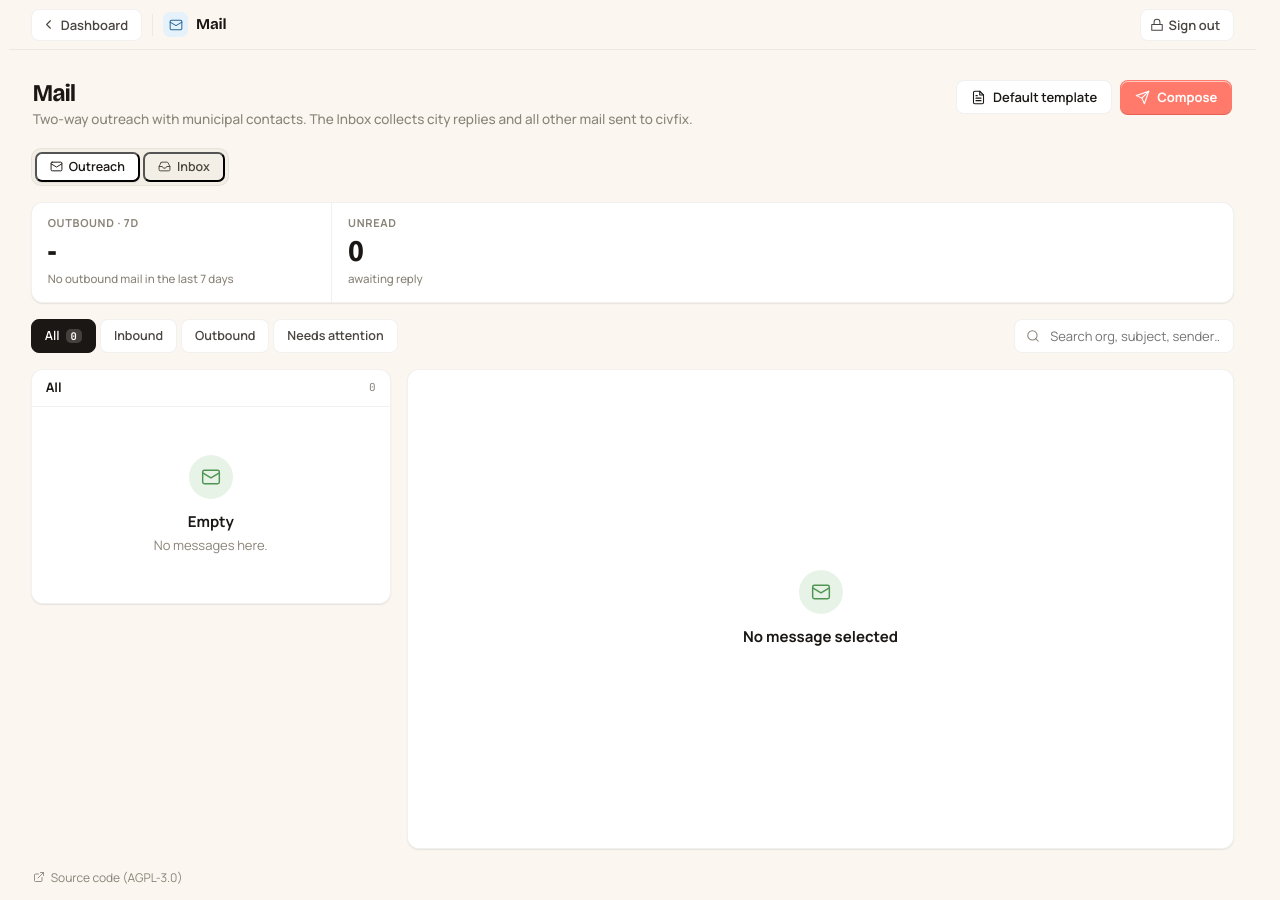
Test case: Forward template modal › is a labelled modal dialog with a named close button
Click the button "Default template": click(1034, 97) x1=956 y1=80 x2=1112 y2=114
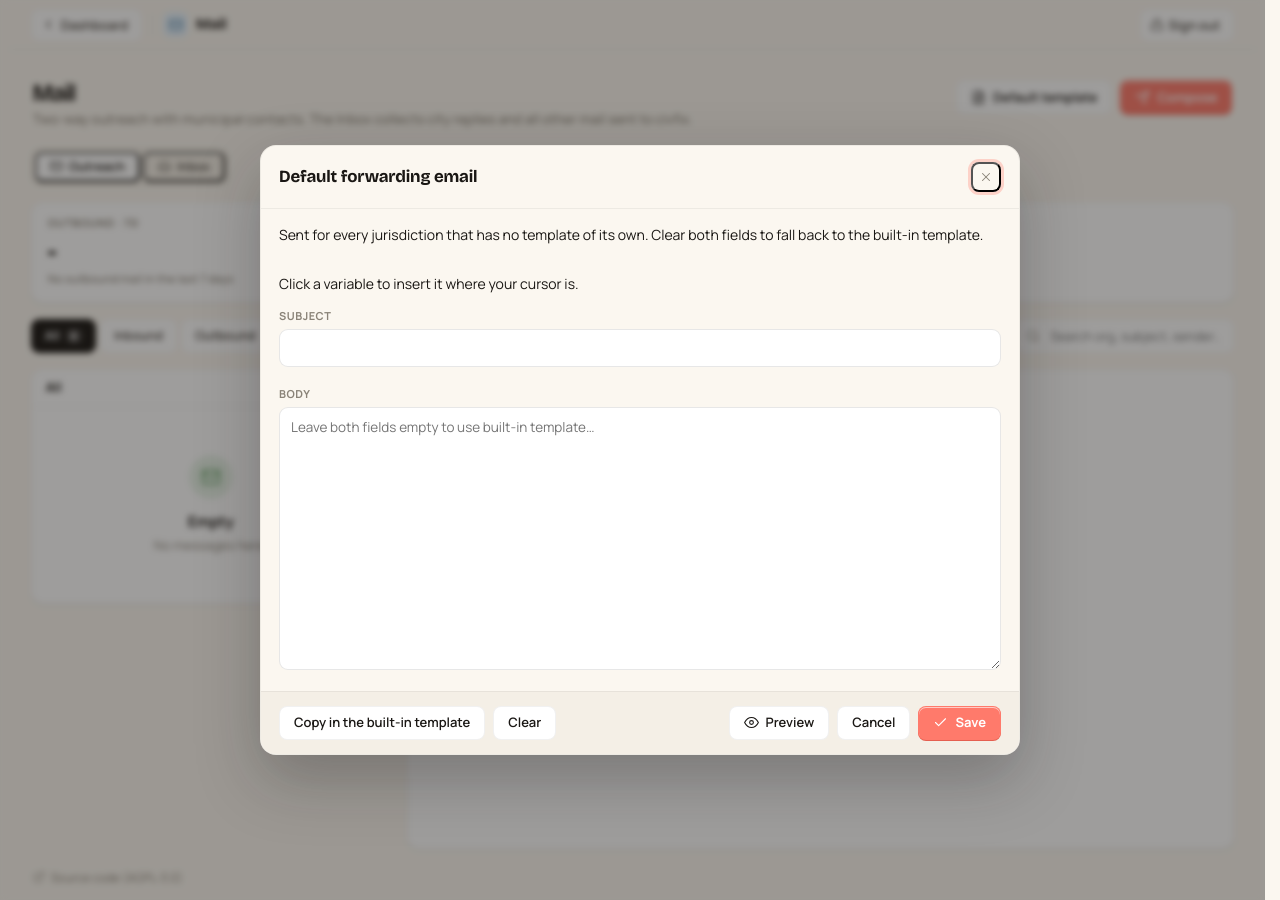
Expected: the button named "Close" is shown, x1=971 y1=162 x2=1001 y2=192
